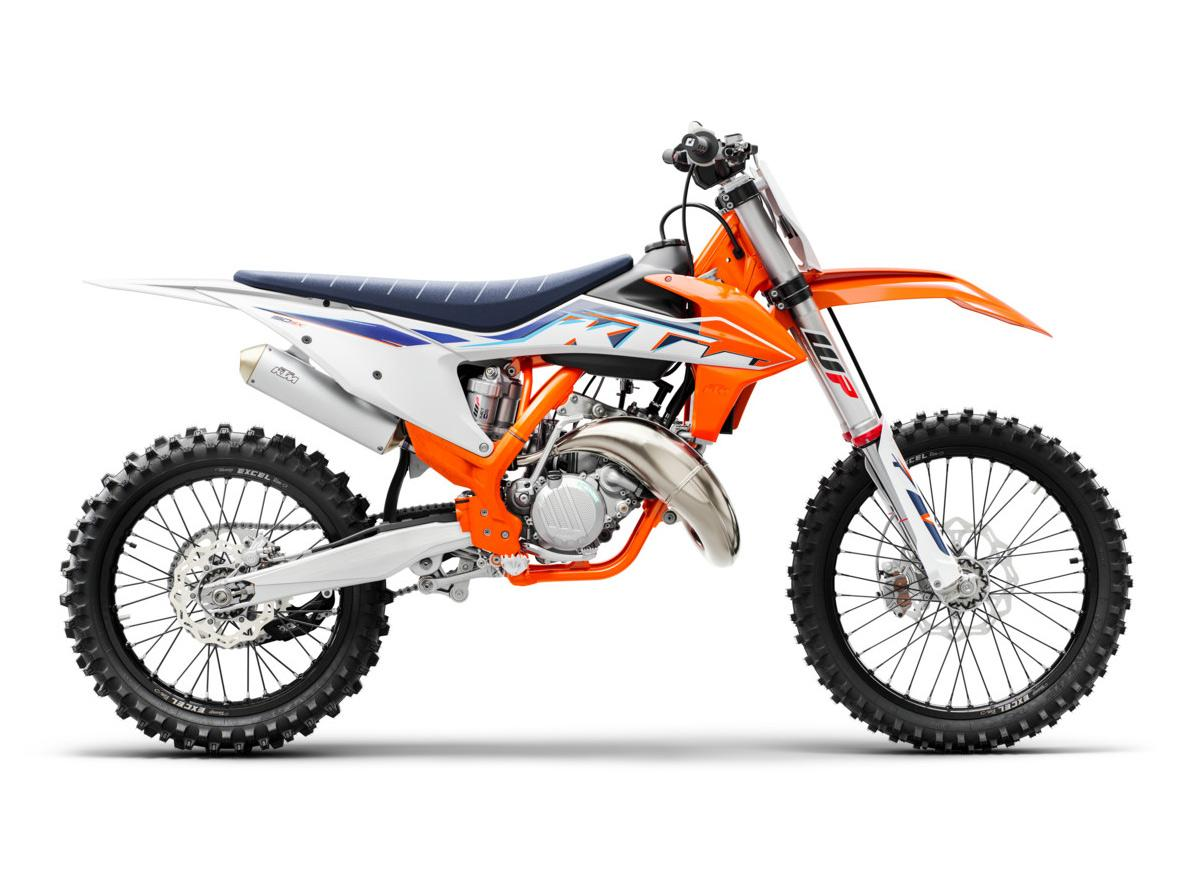motorcycle: (51, 113, 1164, 798)
